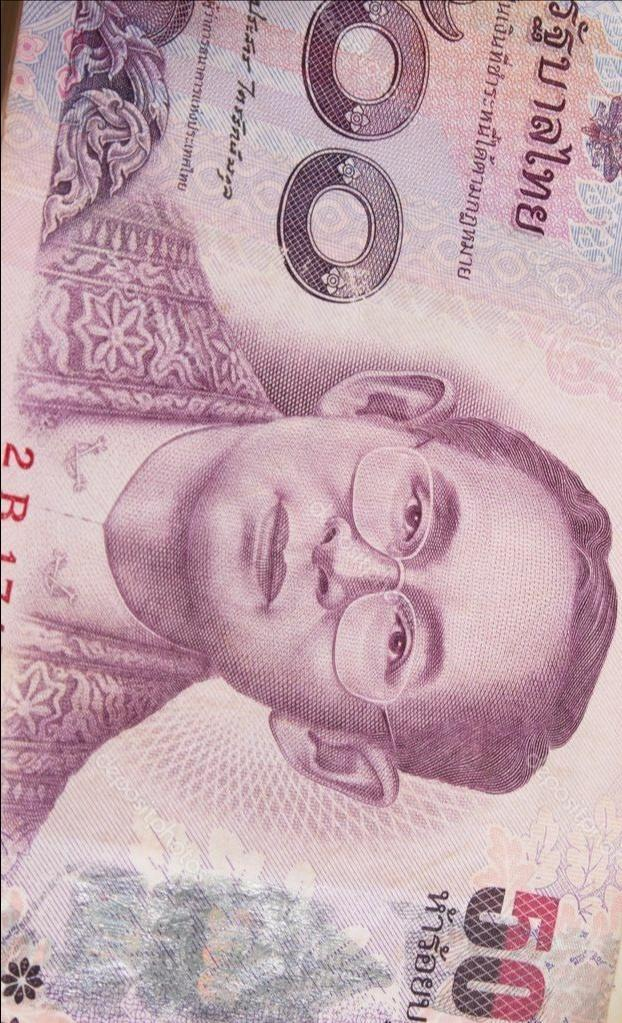500BahtTai: (9, 0, 622, 1023)
